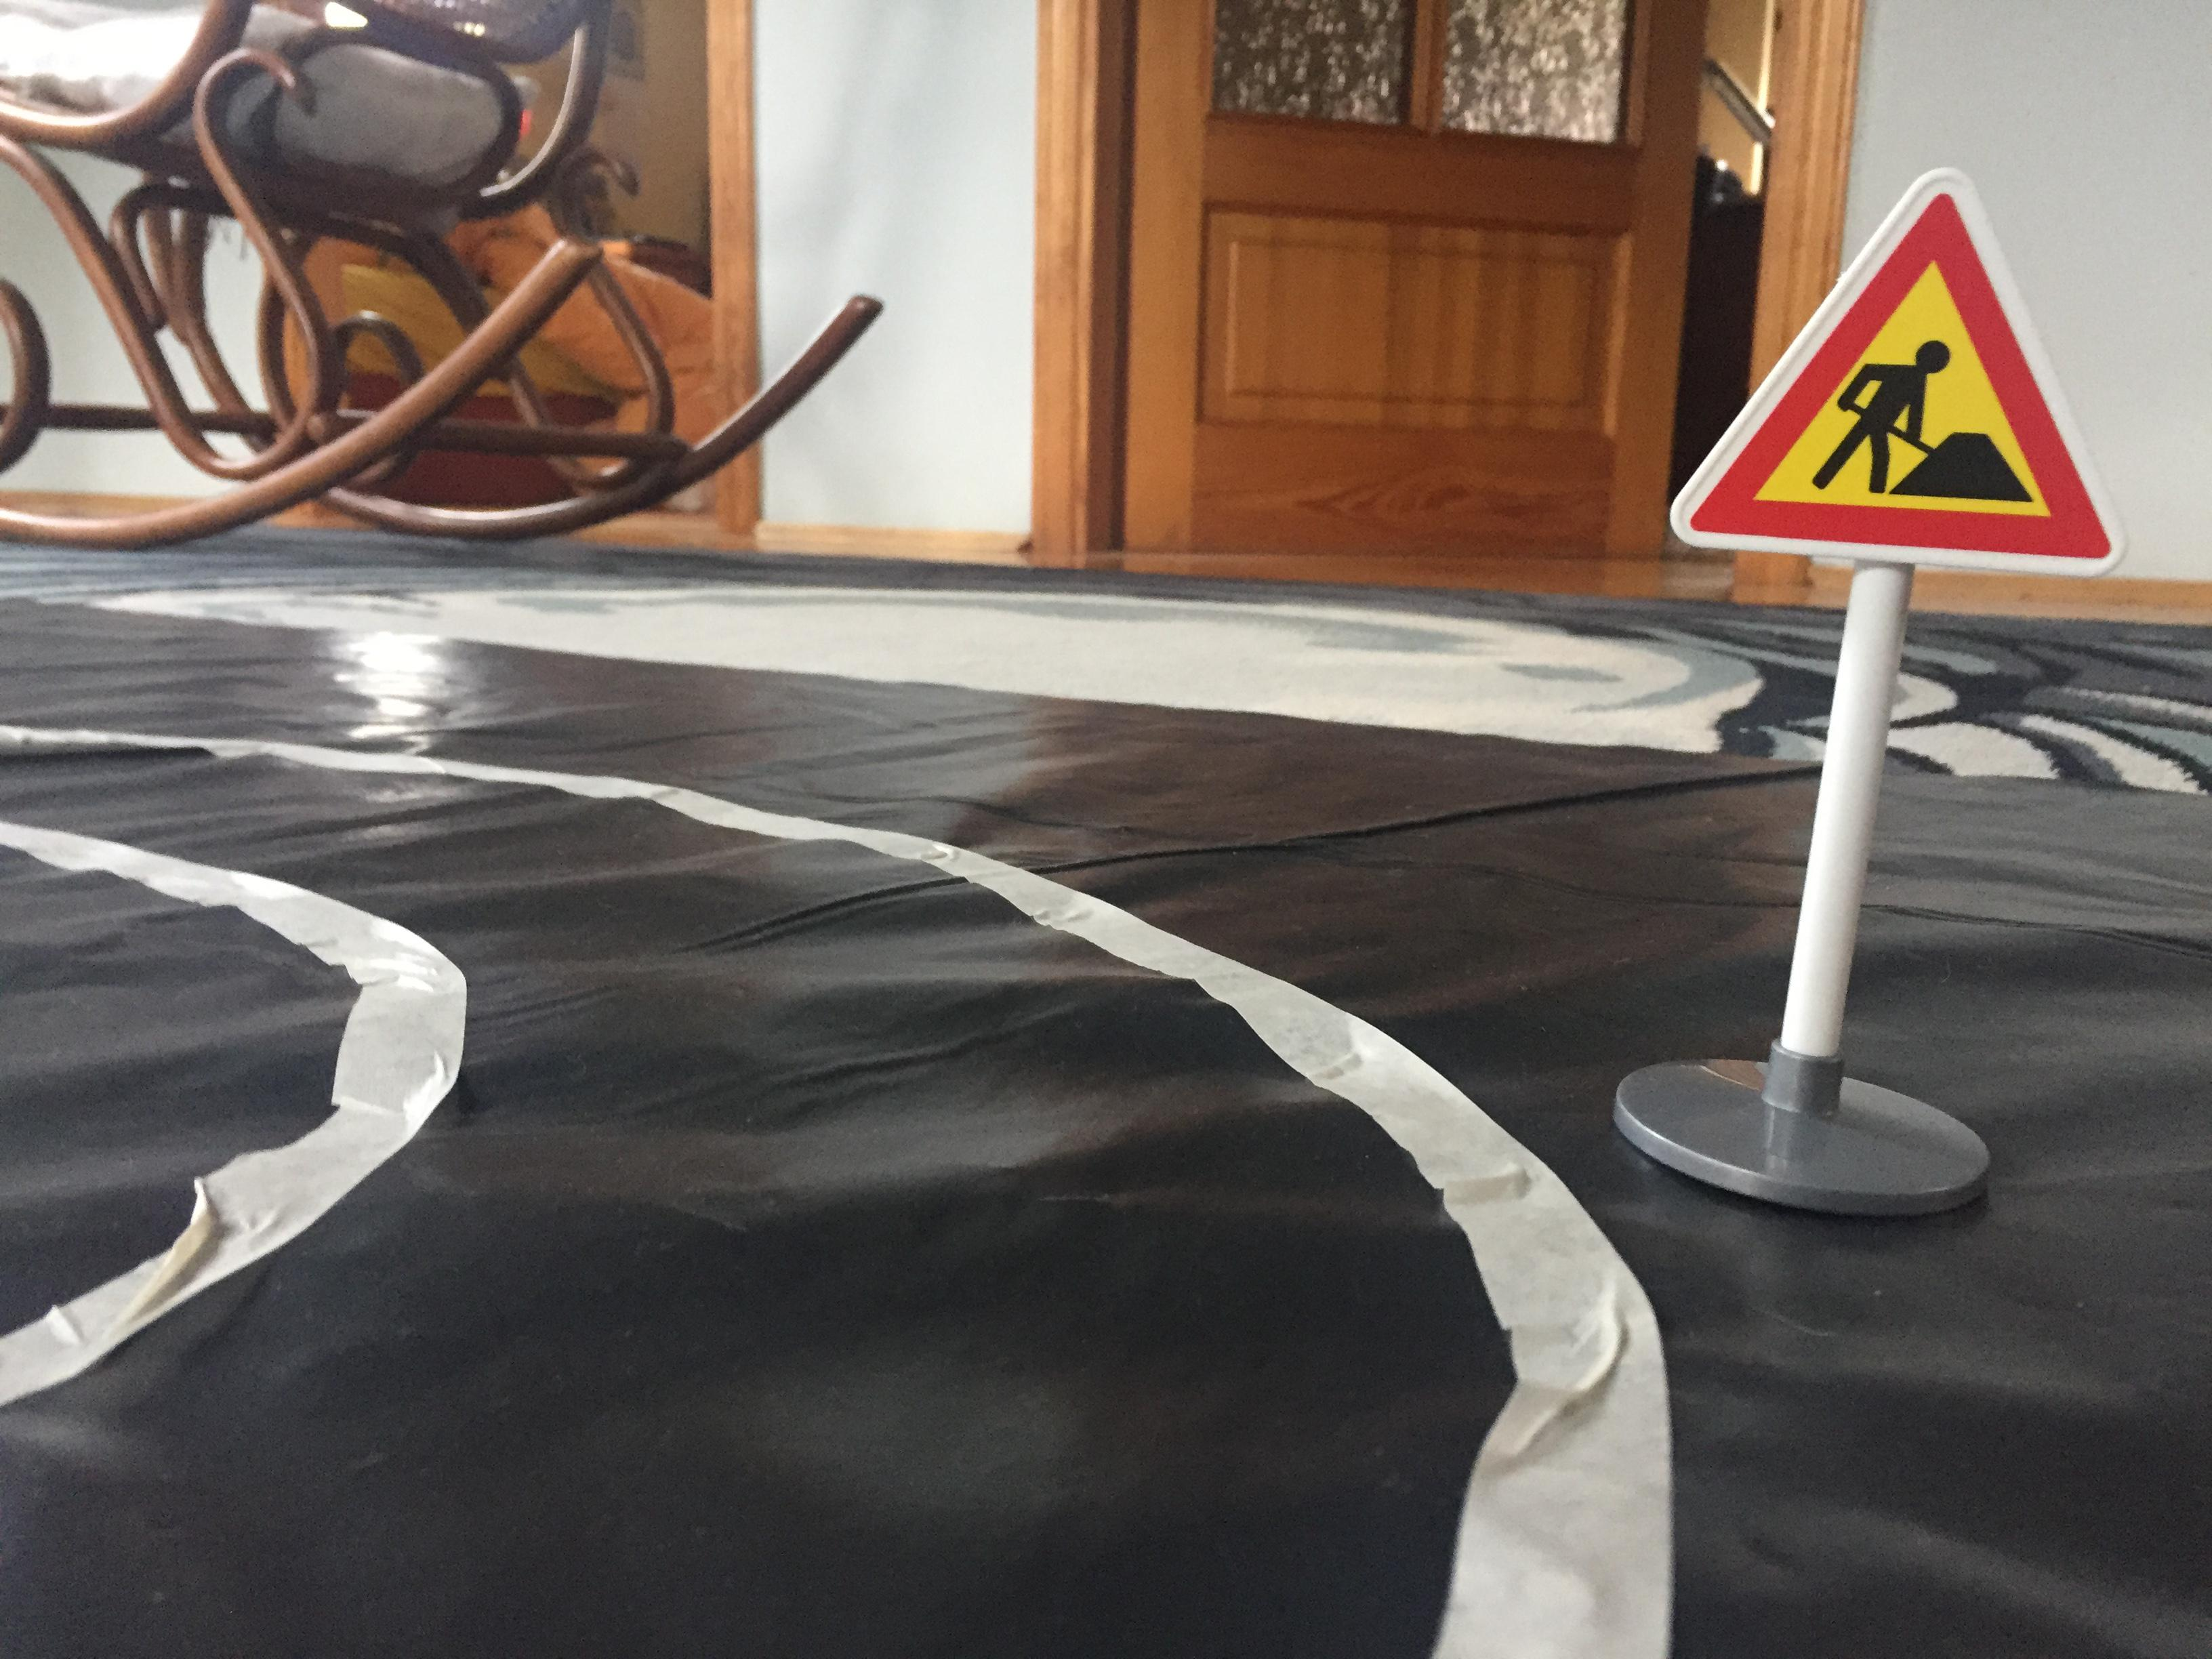work: (1669, 153, 2142, 591)
